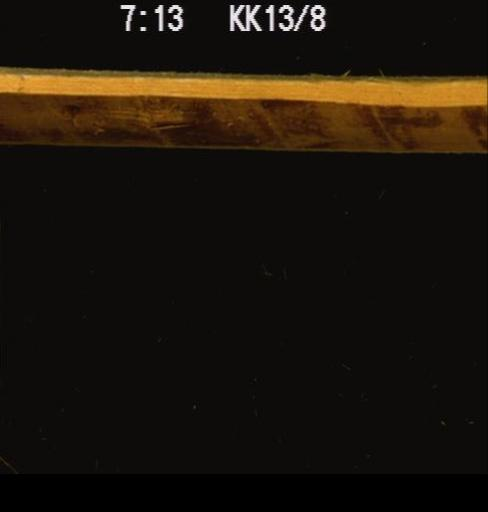wave: (0, 86, 486, 150)
